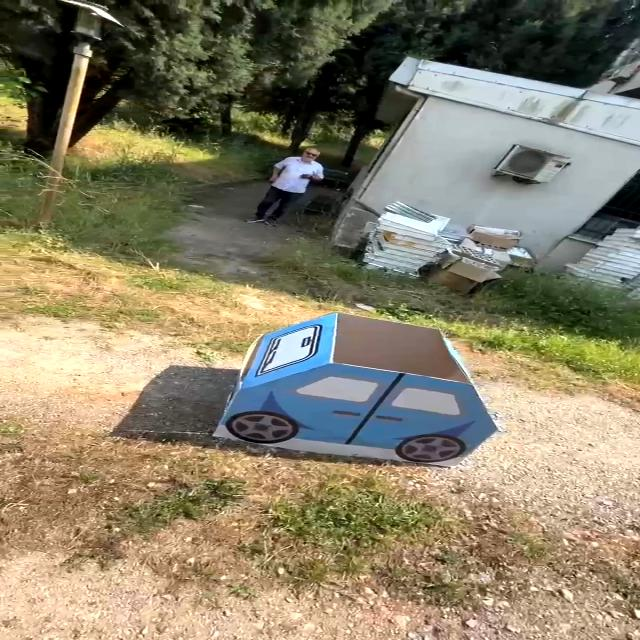blue_car: (187, 299, 509, 478)
